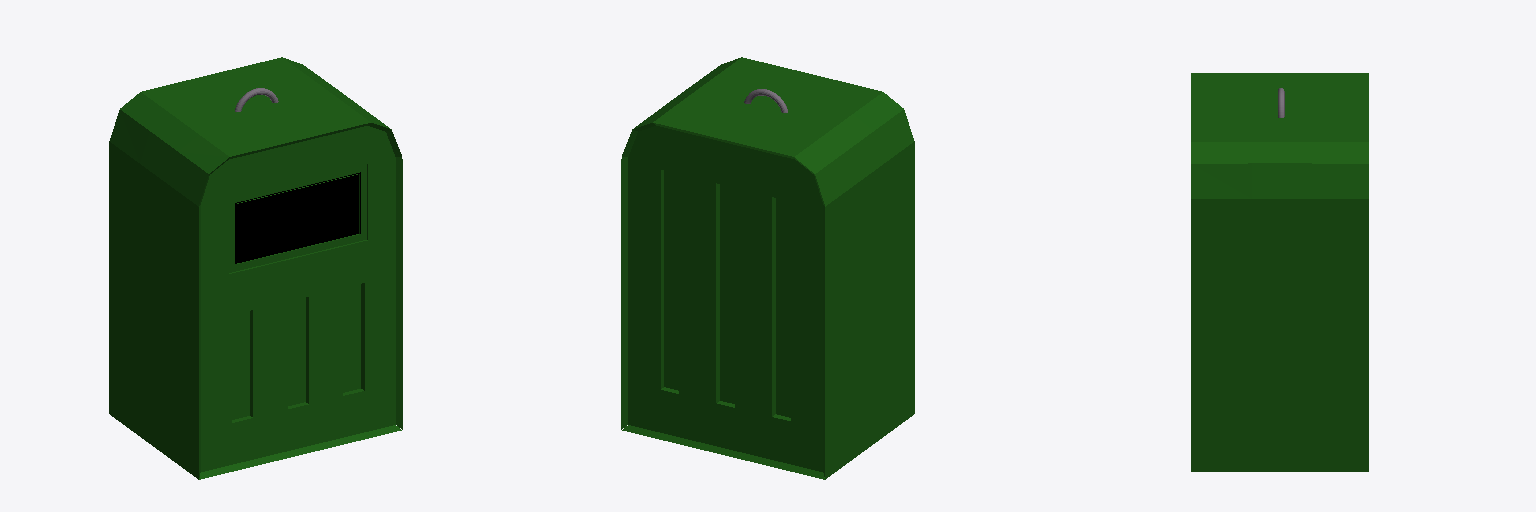
The model's file is EcopontoVerde.obj.
The picture shows the model from 3 angles: view 1: azimuth 30°, elevation 25°; view 2: azimuth 150°, elevation 25°; view 3: azimuth 270°, elevation 25°; orthographic projection.
Visible parts, largest first — view 1: Cube.1, Cube.2; view 2: Cube.1; view 3: Cube.1.
Part boxes in pixels (left/top/right/bottom): Cube.1: left=109, top=57, right=402, bottom=479; Cube.2: left=235, top=172, right=360, bottom=263; Cube.1: left=621, top=57, right=914, bottom=479; Cube.1: left=1191, top=73, right=1368, bottom=471.
Size of the model in its own units: 209 by 326 by 159.